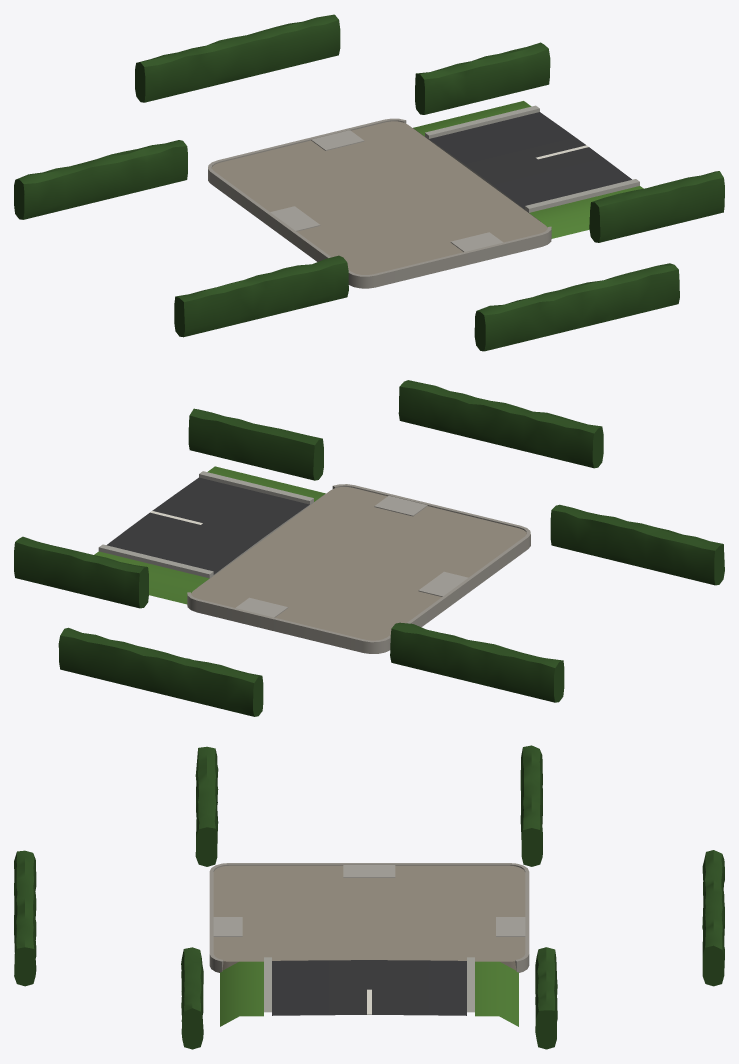
File: house_pad.glb
3 views of the same model, one above another, from view 1: azimuth 30°, elevation 25°; view 2: azimuth 150°, elevation 25°; view 3: azimuth 270°, elevation 25° (orthographic).
Visible parts, largest first — view 1: house_pad_lod0; view 2: house_pad_lod0; view 3: house_pad_lod0.
Part boxes in pixels (x1,y1,x2,y2): house_pad_lod0: [14, 14, 724, 351]; house_pad_lod0: [14, 380, 724, 716]; house_pad_lod0: [14, 745, 724, 1049].
Size of what is drawn, in the model's own units: 19.2 by 1.41 by 21.89.
